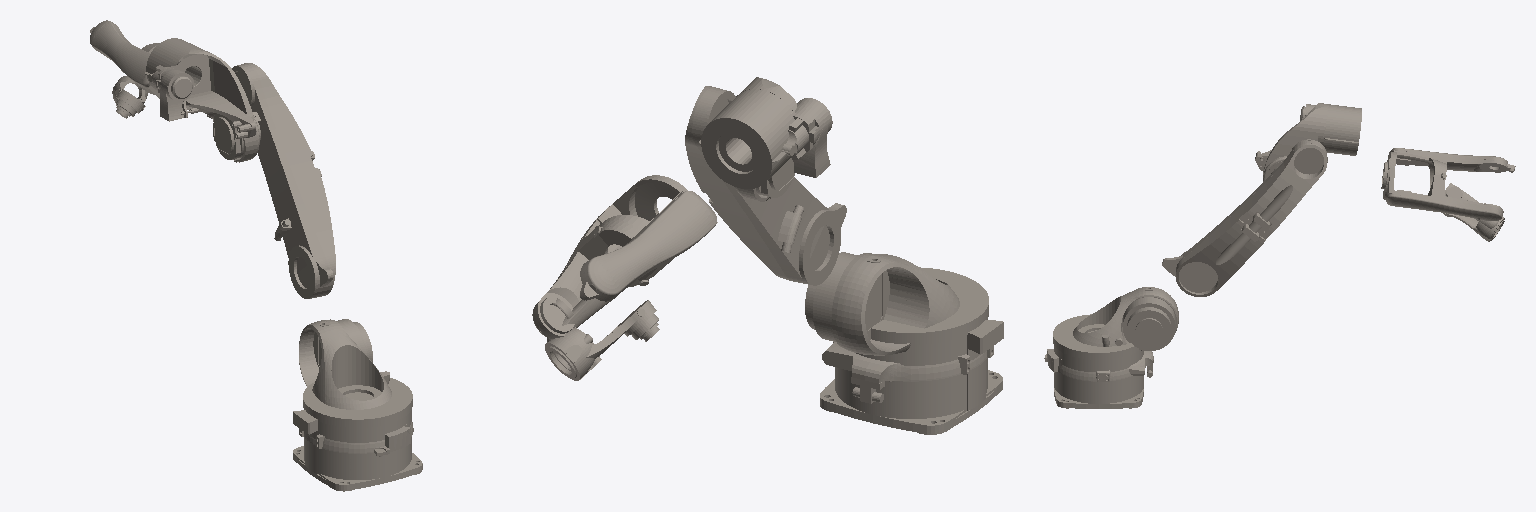
robot.urdf — assembly_kuka_simp:
<?xml version="1.0" encoding="utf-8"?>
<!-- This URDF was automatically created by SolidWorks to URDF Exporter! Originally created by [author] ([email redacted]) 
     Commit Version: 1.5.1-0-g916b5db  Build Version: 1.5.7152.31018
     For more information, please see http://wiki.ros.org/sw_urdf_exporter -->
<robot
  name="assembly_kuka_simp">
  <link
    name="base_link">
    <inertial>
      <origin
        xyz="-0.001558 2.0188E-06 0.11237"
        rpy="0 0 0" />
      <mass
        value="149.06" />
      <inertia
        ixx="1.6321"
        ixy="-1.1451E-05"
        ixz="0.012034"
        iyy="1.6721"
        iyz="3.1139E-05"
        izz="2.0397" />
    </inertial>
    <visual>
      <origin
        xyz="-0.001558 2.0188E-06 0.11237"
        rpy="0 0 0" />
      <geometry>
        <mesh
          filename="package://assembly_kuka_simp/meshes/base_link.dae" />
      </geometry>
      <material
        name="black">
        <color
          rgba="0.64706 0.61961 0.58824 1" />
      </material>
    </visual>
    <collision>
      <origin
        xyz="0 0 0"
        rpy="0 0 0" />
      <geometry>
        <mesh
          filename="package://assembly_kuka_simp/meshes/base_link.dae" />
      </geometry>
    </collision>
  </link>
 
  <link
    name="link_1">
    <inertial>
      <origin
        xyz="0 0 0"
        rpy="0 0 0" />
      <mass
        value="85.97" />
      <inertia
        ixx="1.62"
        ixy="-0.21"
        ixz="0.94"
        iyy="2.57"
        iyz="-0.21"
        izz="1.81" />
    </inertial>
    <visual>
      <origin
        xyz="0 0 0"
        rpy="0 0 0" />
      <geometry>
        <mesh
          filename="package://assembly_kuka_simp/meshes/link_1.dae" />
      </geometry>
      <material
        name="orange">
        <color
          rgba="0.64706 0.61961 0.58824 1" />
      </material>
    </visual>
    <collision>
      <origin
        xyz="0 0 0"
        rpy="0 0 0" />
      <geometry>
        <mesh
          filename="package://assembly_kuka_simp/meshes/link_1.dae" />
      </geometry>
    </collision>
  </link>
  
  <joint
    name="base_to_link1"
    type="continuous">
    <origin
      xyz="0 0 0.2255"
      rpy="0 0 1.5686" />
    <parent
      link="base_link" />
    <child
      link="link_1" />
    <axis
      xyz="0 0 1" />
    <limit
      lower="-2.7053"
      upper="2.7053"
      effort="0"
      velocity="2.6878" />
  </joint>

  <link
    name="link_2">
    <inertial>
      <origin
        xyz="0.0031161 -0.17175 0.26406"
        rpy="0 0 0" />
      <mass
        value="63.108" />
      <inertia
        ixx="2.146"
        ixy="0.0017265"
        ixz="-0.018041"
        iyy="2.1873"
        iyz="0.069311"
        izz="0.17296" />
    </inertial>
    <visual>
      <origin
        xyz="0.0031161 -0.17175 0.26406"
        rpy="0 0 0" />
      <geometry>
        <mesh
          filename="package://assembly_kuka_simp/meshes/link_2.dae" />
      </geometry>
      <material
        name="orange">
        <color
          rgba="0.64706 0.61961 0.58824 1" />
      </material>
    </visual>
    <collision>
      <origin
        xyz="0 0 0"
        rpy="0 0 0" />
      <geometry>
        <mesh
          filename="package://assembly_kuka_simp/meshes/link_2.dae" />
      </geometry>
    </collision>
  </link>
  <joint
    name="link1_to_link2"
    type="continuous">
    <origin
      xyz="0.18106 -0.002 0.178"
      rpy="0 0.71824 0" />
    <parent
      link="link_1" />
    <child
      link="link_2" />
    <axis
      xyz="0 1 0" />
    <limit
      lower="-3.1416"
      upper="1.1345"
      effort="0"
      velocity="2.6878" />
  </joint>

  <link
    name="link_3">
    <inertial>
      <origin
        xyz="0.086086 -0.024557 0.10627"
        rpy="0 0 0" />
      <mass
        value="50.39" />
      <inertia
        ixx="0.56851"
        ixy="-0.12841"
        ixz="-0.24829"
        iyy="0.72042"
        iyz="-0.15113"
        izz="0.56576" />
    </inertial>
    <visual>
      <origin
        xyz="0.086086 -0.024557 0.10627"
        rpy="0 0 0" />
      <geometry>
        <mesh
          filename="package://assembly_kuka_simp/meshes/link_3.dae" />
      </geometry>
      <material
        name="orange">
        <color
          rgba="0.64706 0.61961 0.58824 1" />
      </material>
    </visual>
    <collision>
      <origin
        xyz="0 0 0"
        rpy="0 0 0" />
      <geometry>
        <mesh
          filename="package://assembly_kuka_simp/meshes/link_3.dae" />
      </geometry>
    </collision>
  </link>
  <joint
    name="link2_to_link3"
    type="continuous">
    <origin
      xyz="0.0011745 0.002 0.59705"
      rpy="0 -0.58172 0" />
    <parent
      link="link_2" />
    <child
      link="link_3" />
    <axis
      xyz="0 1 0" />
    <limit
      lower="-0.2618"
      upper="2.7576"
      effort="0"
      velocity="3.9794" />
  </joint>

  <link
    name="link_4">
    <inertial>
      <origin
        xyz="0.19879 -0.00067831 0.0004912"
        rpy="0 0 0" />
      <mass
        value="26.395" />
      <inertia
        ixx="0.25277"
        ixy="0.0012247"
        ixz="0.0022768"
        iyy="0.40301"
        iyz="0.052083"
        izz="0.5751" />
    </inertial>
    <visual>
      <origin
        xyz="0.19879 -0.00067831 0.0004912"
        rpy="0 0 0" />
      <geometry>
        <mesh
          filename="package://assembly_kuka_simp/meshes/link_4.dae" />
      </geometry>
      <material
        name="orange">
        <color
          rgba="0.64706 0.61961 0.58824 1" />
      </material>
    </visual>
    <collision>
      <origin
        xyz="0 0 0"
        rpy="0 0 0" />
      <geometry>
        <mesh
          filename="package://assembly_kuka_simp/meshes/link_4.dae" />
      </geometry>
    </collision>
  </link>
  <joint
    name="link3_to_link4"
    type="continuous">
    <origin
      xyz="0.237 0 0.17"
      rpy="-0.77711 0 0" />
    <parent
      link="link_3" />
    <child
      link="link_4" />
    <axis
      xyz="1 0 0" />
    <limit
      lower="-6.1087"
      upper="-6.1087"
      effort="0"
      velocity="5.969" />
  </joint>

  <link
    name="link_5">
    <inertial>
      <origin
        xyz="0.075375 -0.0070921 -1.4828E-07"
        rpy="0 0 0" />
      <mass
        value="8.3316" />
      <inertia
        ixx="0.021249"
        ixy="0.0024931"
        ixz="-1.4695E-07"
        iyy="0.049743"
        iyz="-1.0627E-07"
        izz="0.063119" />
    </inertial>
    <visual>
      <origin
        xyz="0.075375 -0.0070921 -1.4828E-07"
        rpy="0 0 0" />
      <geometry>
        <mesh
          filename="package://assembly_kuka_simp/meshes/link_5.dae" />
      </geometry>
      <material
        name="orange">
        <color
          rgba="0.64706 0.61961 0.58824 1" />
      </material>
    </visual>
    <collision>
      <origin
        xyz="0 0 0"
        rpy="0 0 0" />
      <geometry>
        <mesh
          filename="package://assembly_kuka_simp/meshes/link_5.dae" />
      </geometry>
    </collision>
  </link>
  <joint
    name="link4_to_link5"
    type="continuous">
    <origin
      xyz="0.383 0.005 0"
      rpy="0 0.48037 0" />
    <parent
      link="link_4" />
    <child
      link="link_5" />
    <axis
      xyz="0 1 0" />
    <limit
      lower="-2.2689"
      upper="2.2689"
      effort="0"
      velocity="6.7021" />
  </joint>
  <link
    name="link_6">
    <inertial>
      <origin
        xyz="-0.0010352 -2.6645E-15 -0.00015568"
        rpy="0 0 0" />
      <mass
        value="0.15535" />
      <inertia
        ixx="0.0001313"
        ixy="1.5196E-18"
        ixz="9.2632E-08"
        iyy="6.8352E-05"
        iyz="9.6562E-20"
        izz="6.9057E-05" />
    </inertial>
    <visual>
      <origin
        xyz="-0.0010352 -2.6645E-15 -0.00015568"
        rpy="0 0 0" />
      <geometry>
        <mesh
          filename="package://assembly_kuka_simp/meshes/link_6.dae" />
      </geometry>
      <material
        name="platinum">
        <color
          rgba="0.64706 0.61961 0.58824 1" />
      </material>
    </visual>
    <collision>
      <origin
        xyz="0 0 0"
        rpy="0 0 0" />
      <geometry>
        <mesh
          filename="package://assembly_kuka_simp/meshes/link_6.dae" />
      </geometry>
    </collision>
  </link>
  <joint
    name="link5_to_link6"
    type="continuous">
    <origin
      xyz="0.193 -0.003 0"
      rpy="1.3396 0 0" />
    <parent
      link="link_5" />
    <child
      link="link_6" />
    <axis
      xyz="1 0 0" />
    <limit
      lower="-6.1087"
      upper="6.1087"
      effort="0"
      velocity="12.584" />
  </joint>
</robot>

--- Facts derived from the render (not from the file) ---
Views: 3 orthographic renders of the robot side by side, from view 1: azimuth 30°, elevation 25°; view 2: azimuth 150°, elevation 25°; view 3: azimuth 270°, elevation 25°.
Robot: assembly_kuka_simp — 7 links, 6 joints (6 continuous); root link base_link; default pose: all joints at 0.
Links seen in each view (by area): view 1: link_2, base_link, link_3, link_1, link_4, link_5; view 2: link_1, base_link, link_4, link_3, link_2, link_5; view 3: link_2, link_1, base_link, link_4, link_3, link_5.
Boxes of the visible links, x1=… form: link_2: x1=232, y1=63, x2=335, y2=298; base_link: x1=293, y1=378, x2=422, y2=491; link_3: x1=145, y1=38, x2=260, y2=162; link_1: x1=299, y1=319, x2=413, y2=456; link_4: x1=90, y1=20, x2=191, y2=109; link_5: x1=112, y1=76, x2=147, y2=118; link_1: x1=805, y1=252, x2=993, y2=403; base_link: x1=820, y1=267, x2=1003, y2=434; link_4: x1=532, y1=175, x2=717, y2=338; link_3: x1=699, y1=77, x2=832, y2=201; link_2: x1=685, y1=86, x2=846, y2=285; link_5: x1=545, y1=298, x2=659, y2=380; link_2: x1=1162, y1=139, x2=1327, y2=296; link_1: x1=1044, y1=287, x2=1178, y2=381; base_link: x1=1053, y1=314, x2=1143, y2=408; link_4: x1=1381, y1=148, x2=1515, y2=220; link_3: x1=1255, y1=103, x2=1361, y2=181; link_5: x1=1443, y1=183, x2=1504, y2=241.
Size in the robot's own frame: 0.4052 by 1.69 by 1.07 metres.
Meshes: 7 distinct files referenced, 7 mesh visuals loaded (7 Collada DAE).